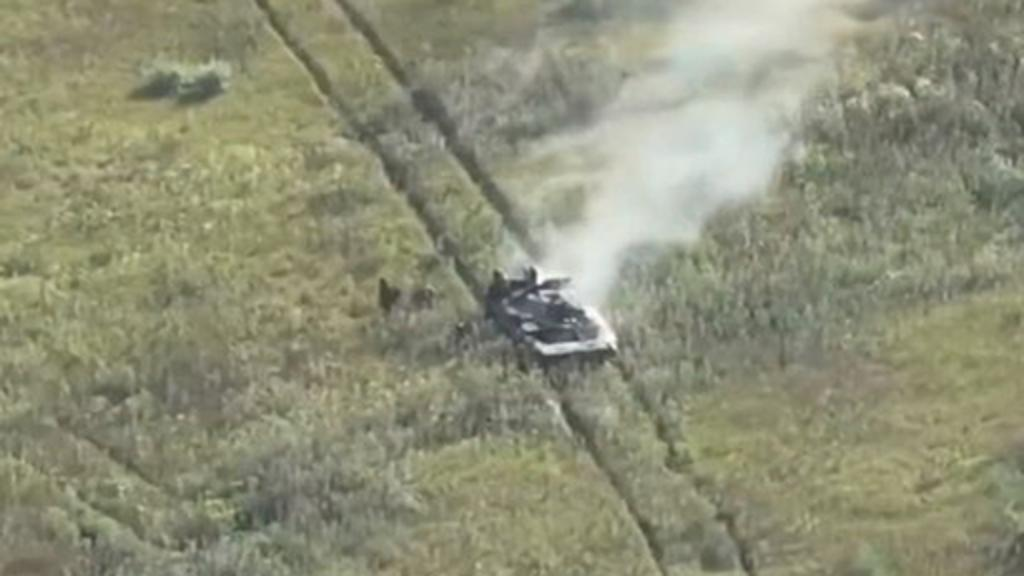APC-IFV: (482, 264, 628, 376)
